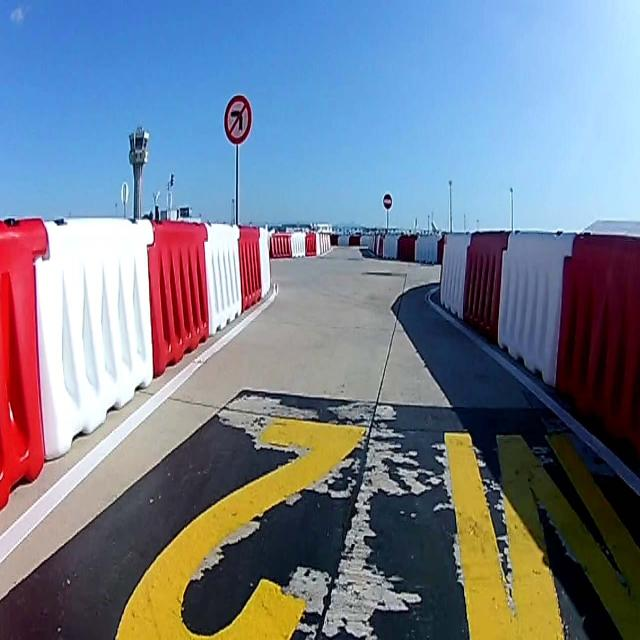soladonulmez: (225, 96, 252, 144)
